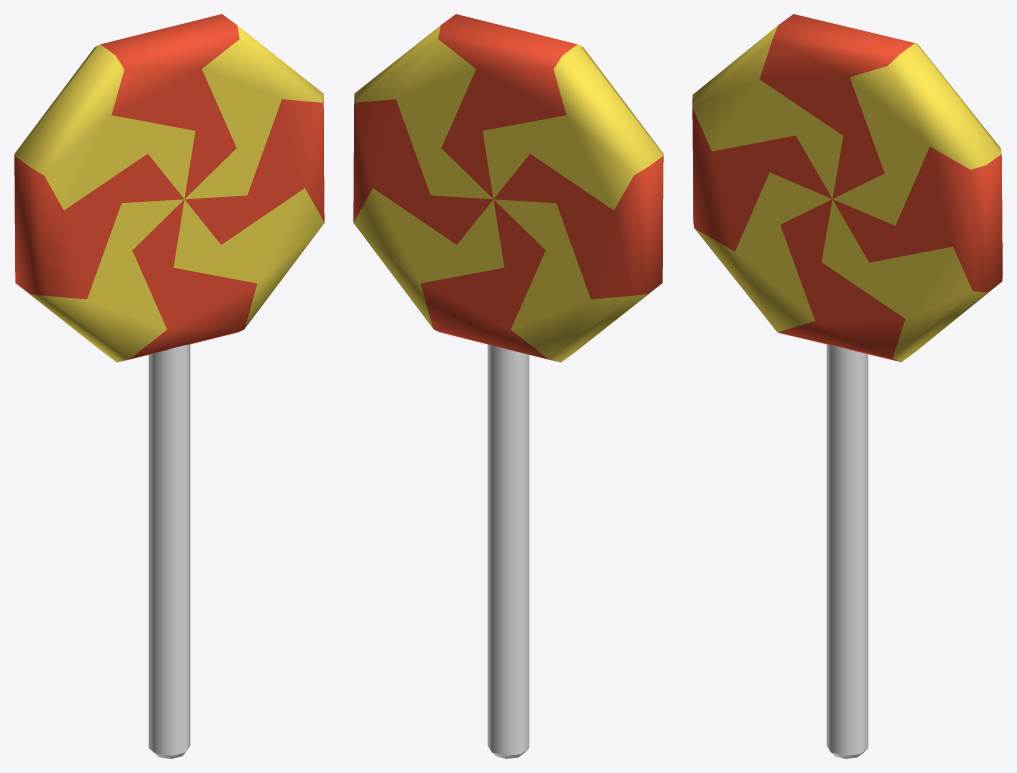
The model's file is Candy_6.fbx.
3 views of the same model, side by side, from view 1: azimuth 30°, elevation 25°; view 2: azimuth 150°, elevation 25°; view 3: azimuth 330°, elevation 25° (orthographic).
Visible parts, largest first — view 1: Candy_6; view 2: Candy_6; view 3: Candy_6.
Part boxes in pixels (left/top/right/bottom): Candy_6: left=14, top=14, right=324, bottom=758; Candy_6: left=353, top=14, right=663, bottom=758; Candy_6: left=692, top=14, right=1002, bottom=758.
Bounding box in the file's own units: 1.22 × 2.85 × 0.2159.
